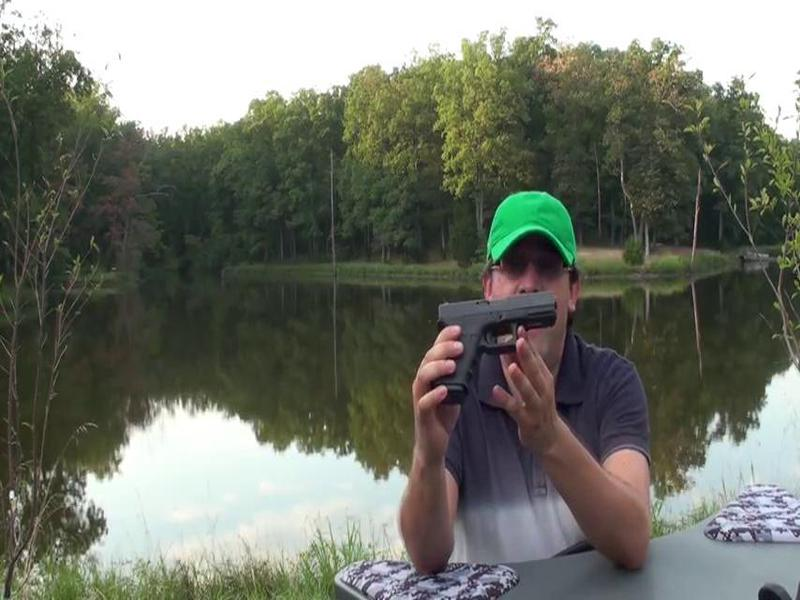Pistola: (421, 278, 575, 417)
